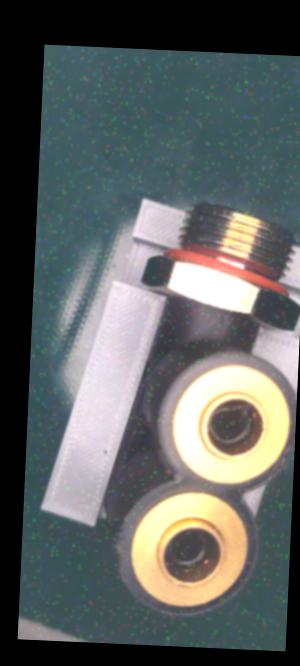off-centered: (206, 399, 257, 449)
white mark: (216, 310, 228, 341)
